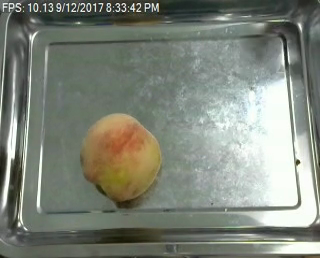Peach: (79, 112, 162, 201)
